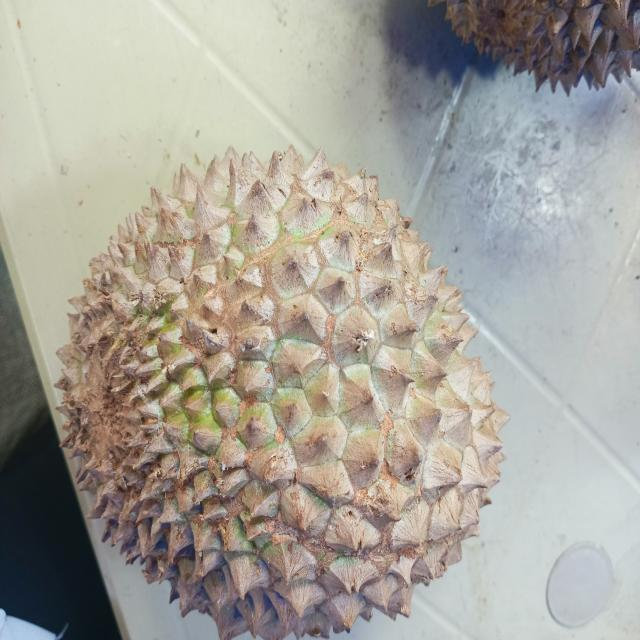mature: (46, 134, 508, 640), (47, 137, 509, 640)
